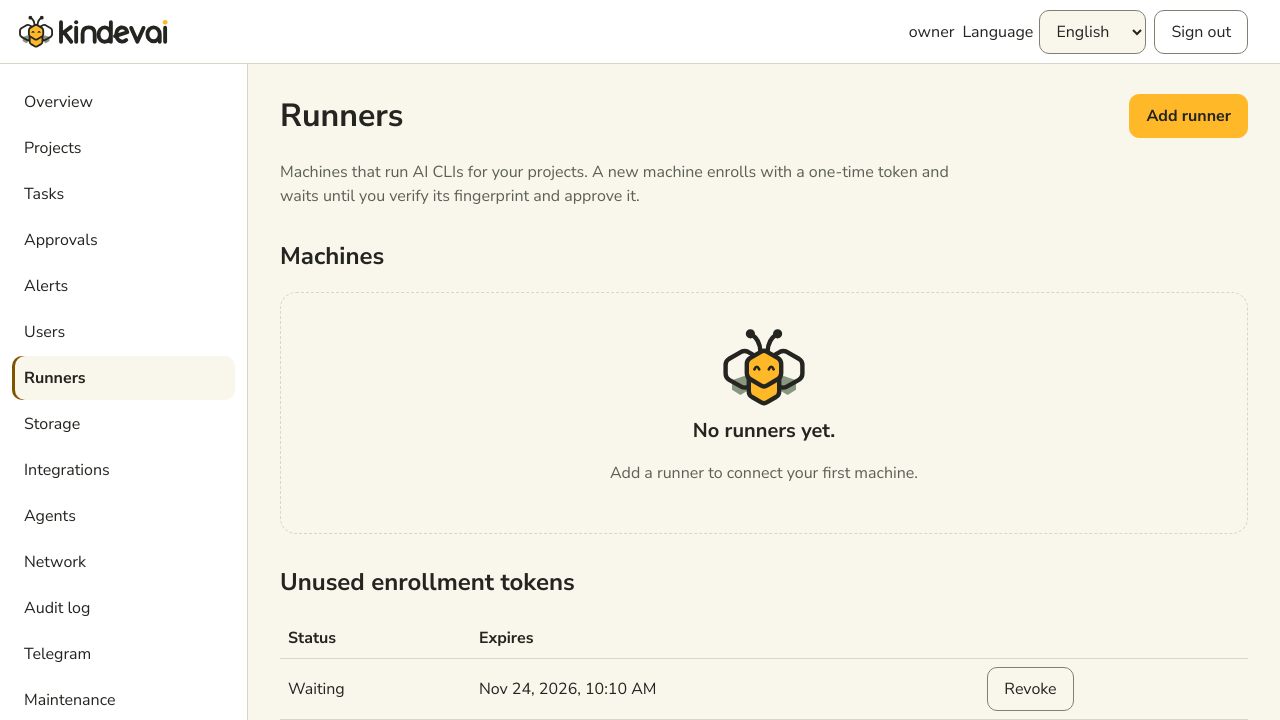
Scenario: runners list (owner) › explains why a token can no longer be revoked
Click the button "Revoke" at coordinates (1031, 689), box [987,667,1074,711]
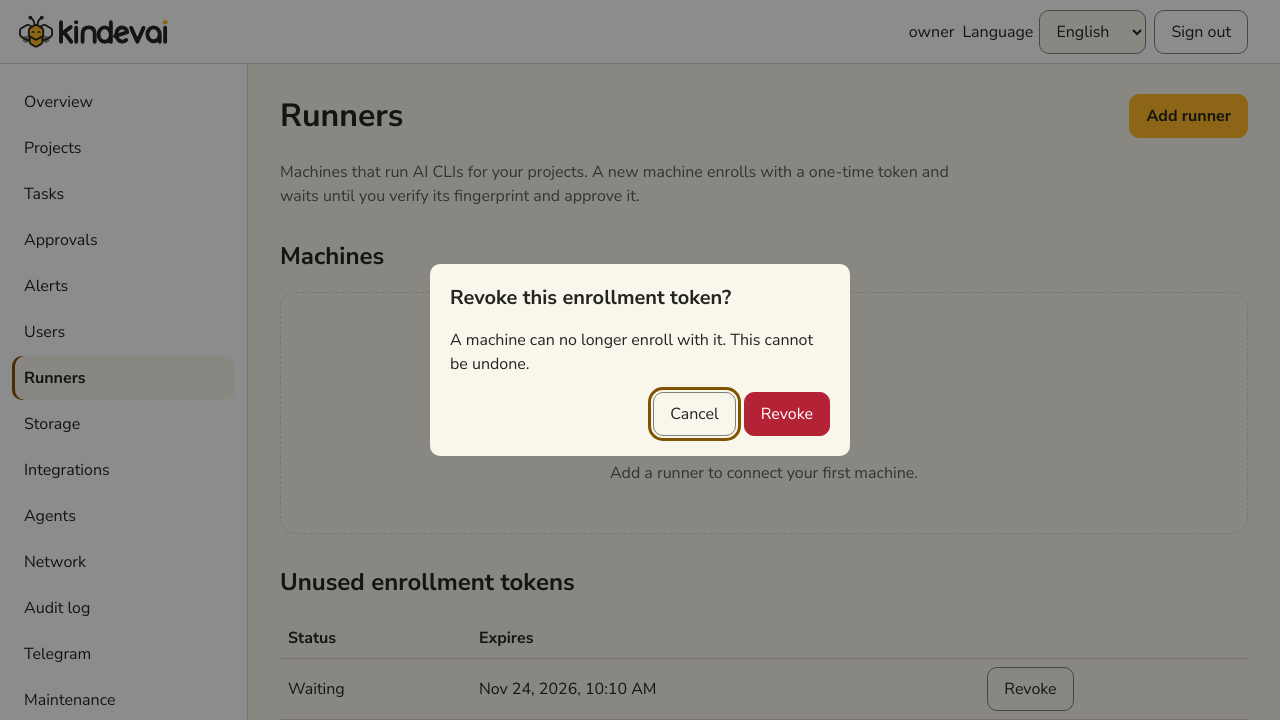
Click the button "Revoke" at coordinates (787, 414), box [744,392,830,436]
(page scrolled)
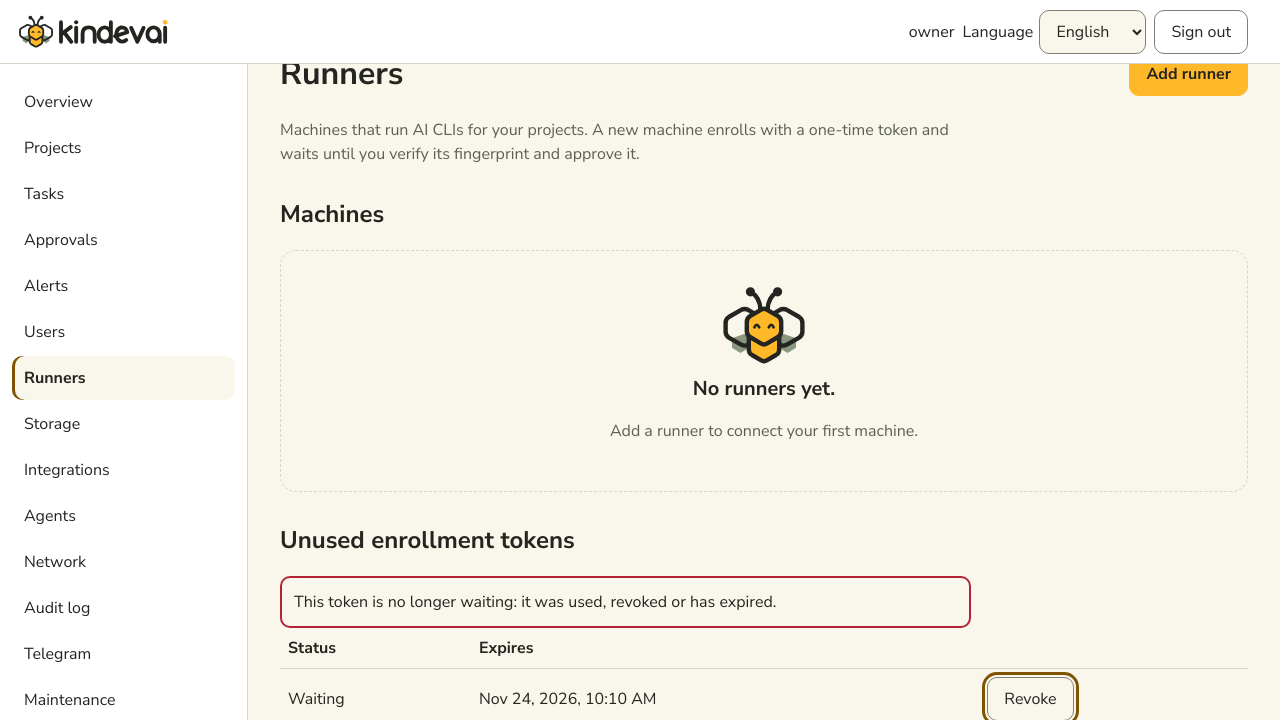
Expected: the text "This token is no longer waiting: it was used, revoked or has expired." is shown, [280,576,971,628]
